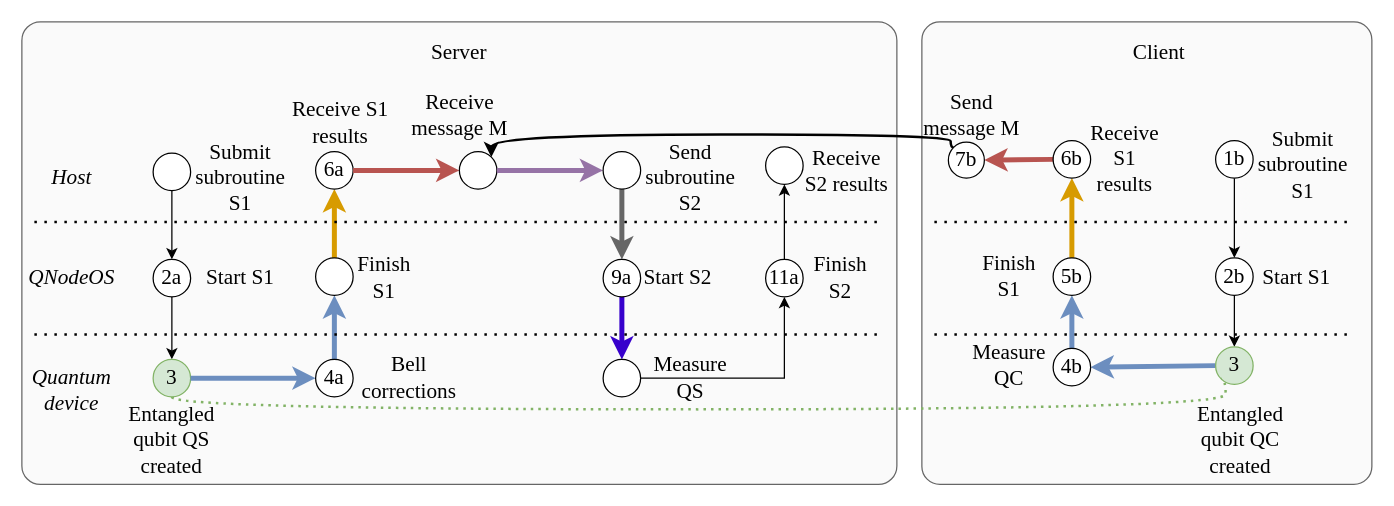
Some shapes in this 1394 by 506 pixel diagram are drawn without their labels. Each missing label, with the centre of its shape:
10a: the point at 621,377
12a: the point at 783,165
1a: the point at 171,171
5a: the point at 333,276
7a: the point at 477,169
8a: the point at 621,169
